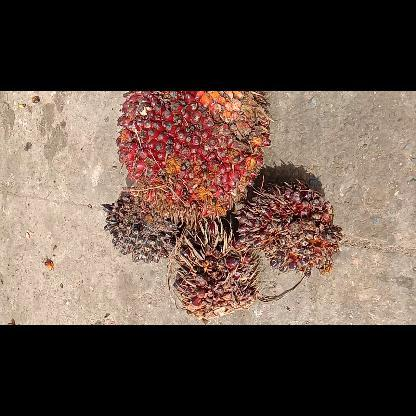TBS abnormal: (235, 181, 343, 280), (169, 224, 262, 324), (99, 186, 185, 264)
TBS masak: (113, 92, 274, 230)
